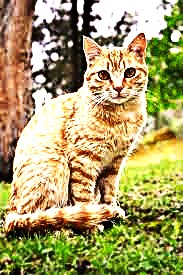cat: (1, 32, 150, 235)
